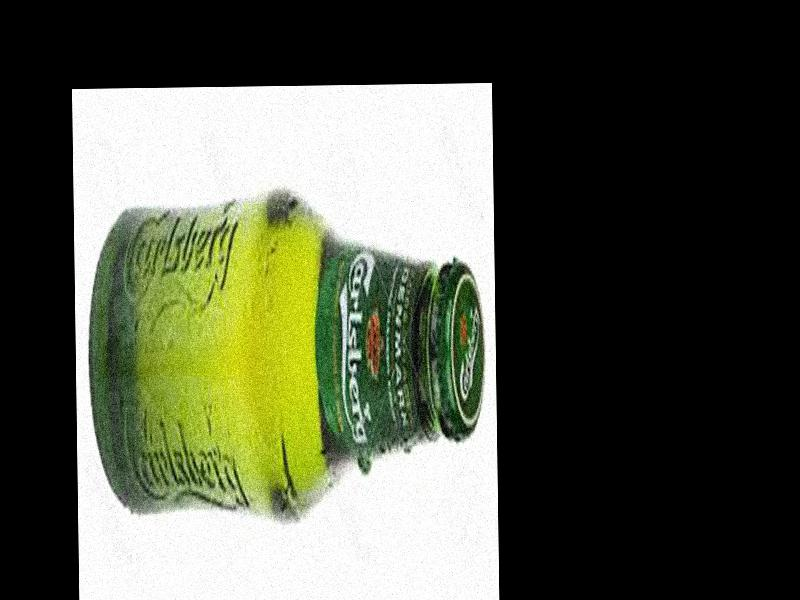Beer: (84, 184, 487, 522)
